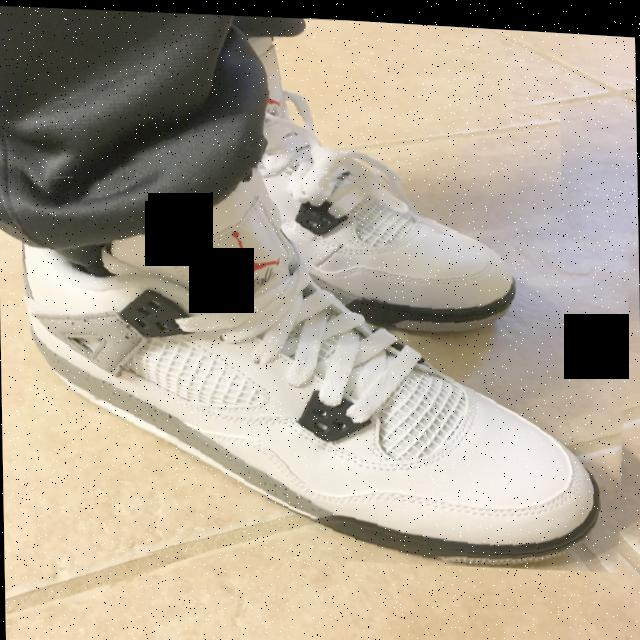shoe: (21, 137, 640, 577), (161, 59, 564, 335)
